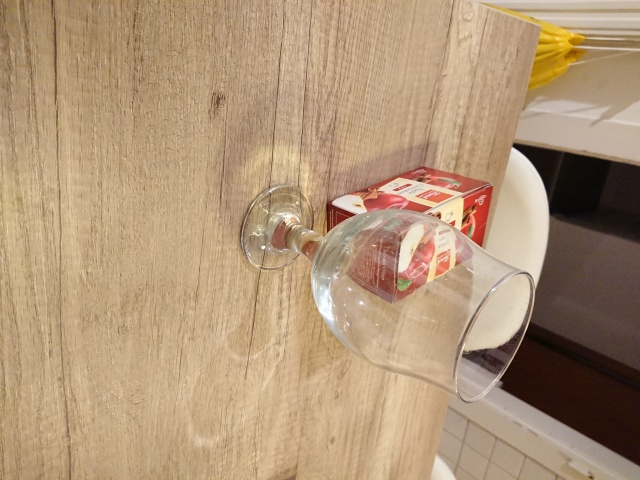Franck Apple Cinnamon Tea 60g: (322, 162, 496, 306)
